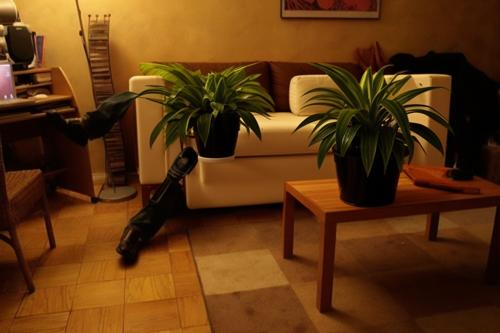bottle: (345, 125, 372, 202)
chair: (2, 144, 58, 294)
person: (51, 57, 291, 266)
person/foot: (46, 111, 88, 148), (116, 228, 140, 257)
person/hand: (248, 89, 262, 109), (233, 81, 243, 99)
person/head: (243, 60, 272, 89)
pottedplant: (126, 61, 453, 208)
